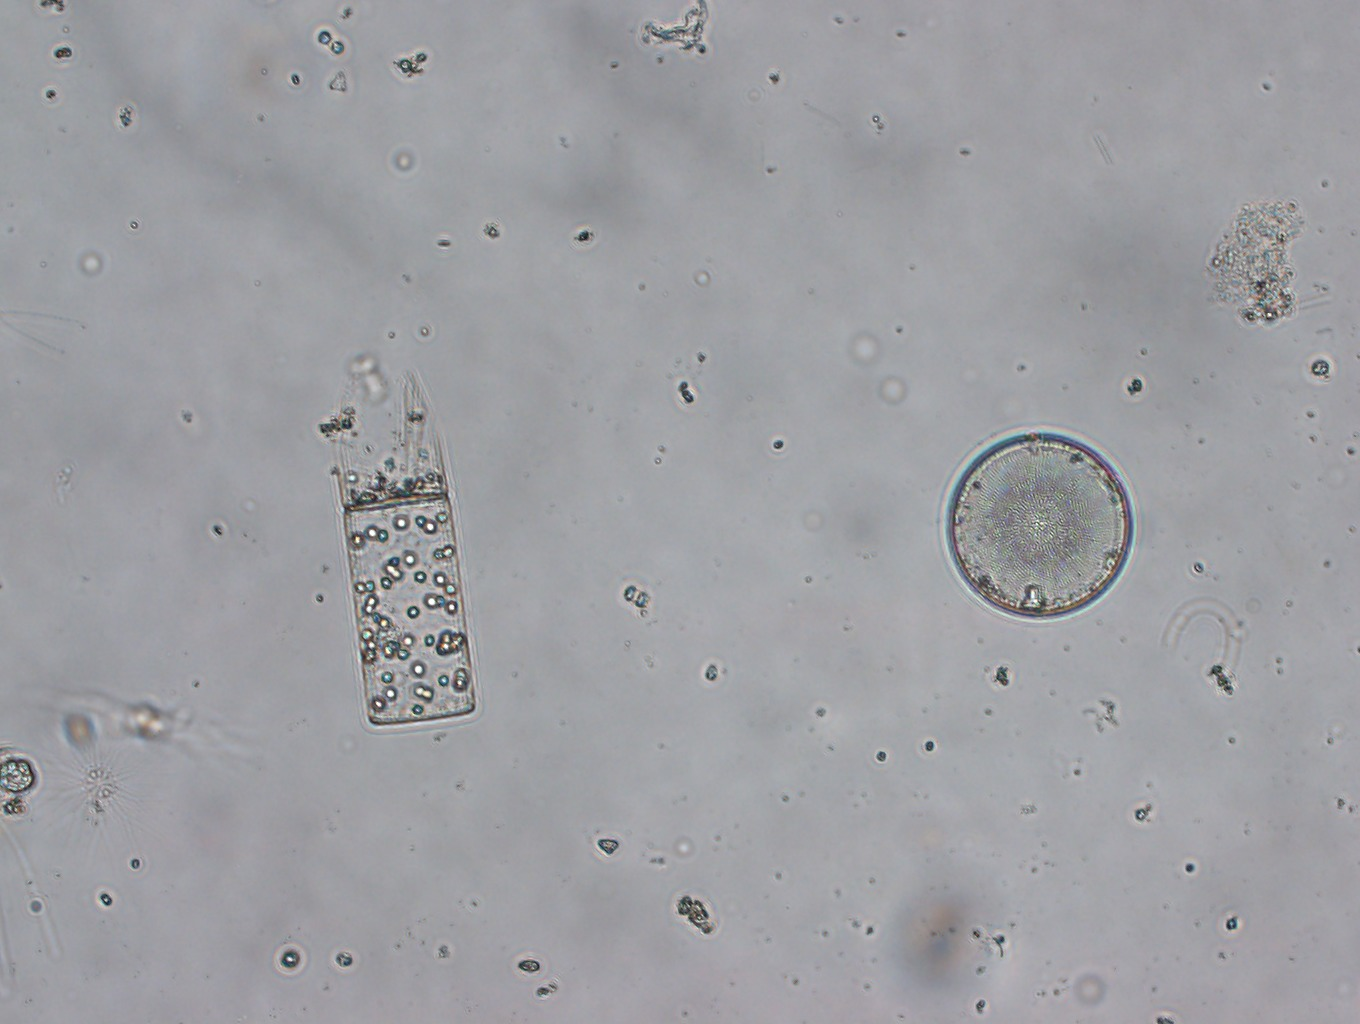coscinodiscus: (946, 431, 1135, 620)
guinardia flaccida: (333, 433, 477, 726)
